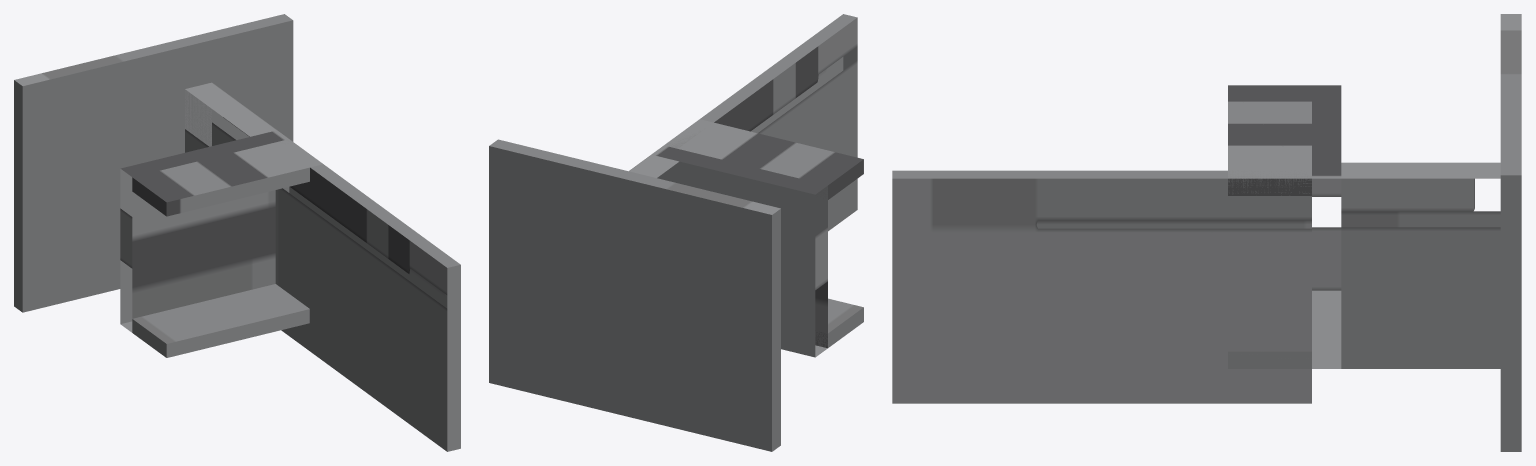
3 views of the same model, side by side, from view 1: azimuth 30°, elevation 25°; view 2: azimuth 150°, elevation 25°; view 3: azimuth 270°, elevation 25° (orthographic). The views are drawn at different scales.
Size of the model in its own units: 0.91 by 0.728 by 1.5.
